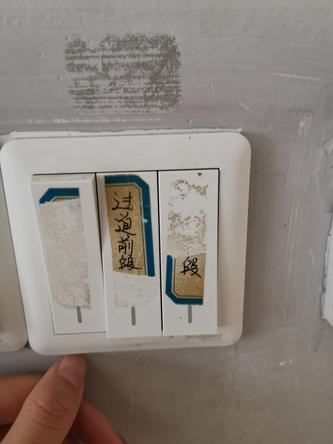switch: (31, 167, 107, 337), (91, 170, 165, 339), (156, 165, 224, 339)
